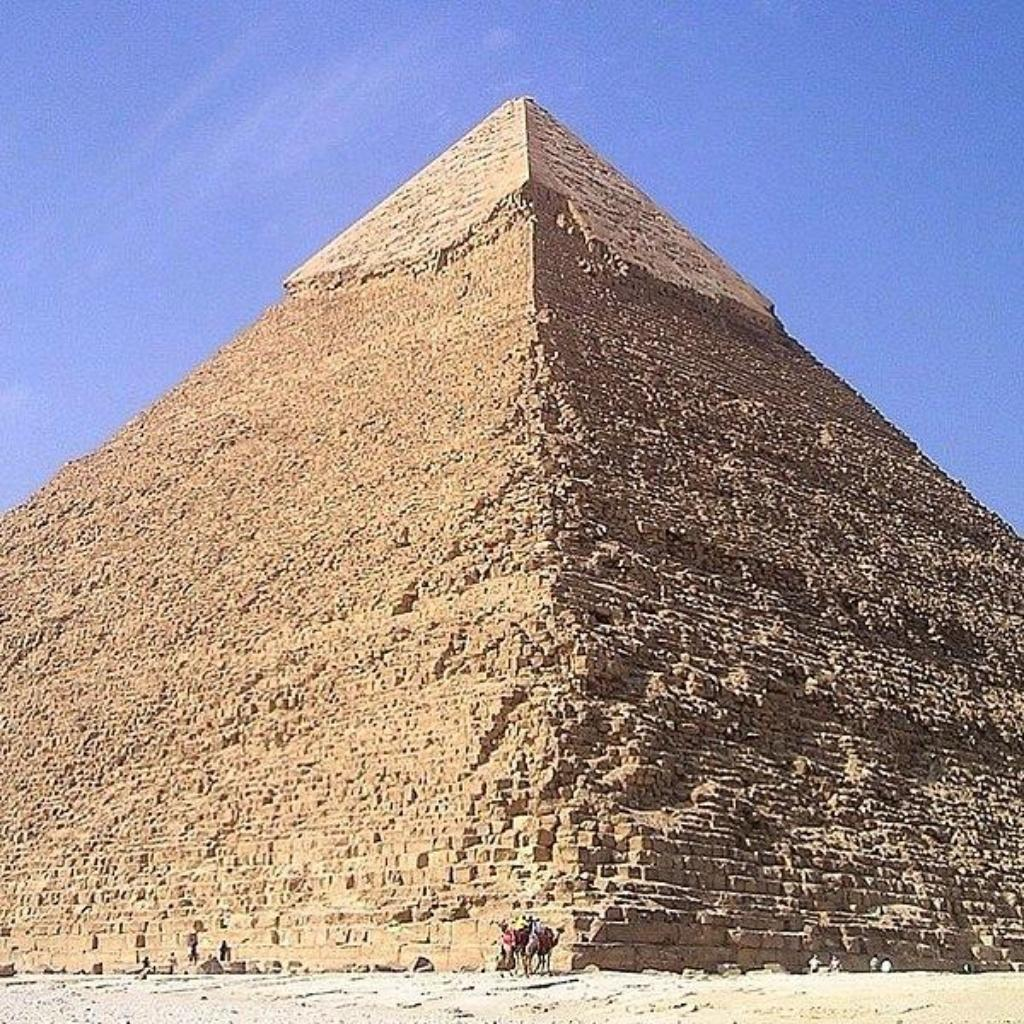Great Pyramids of Giza: (4, 88, 1018, 974)
